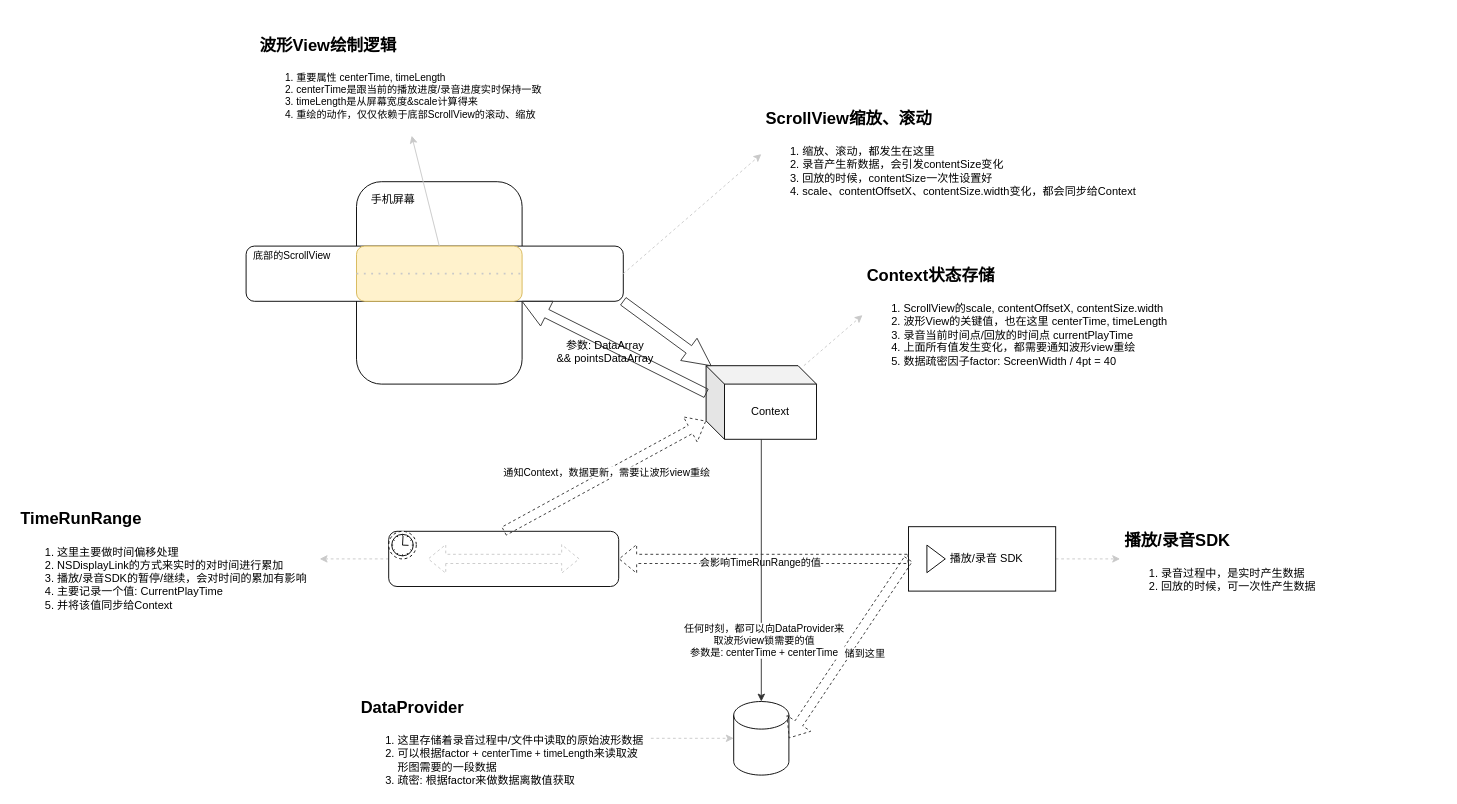
Some shapes in this 1457 by 804 pixel diagram are drawn without their labels. Each missing label, with the centre of its shape:
Data: the point at 761,738
波形View: the point at 439,273
